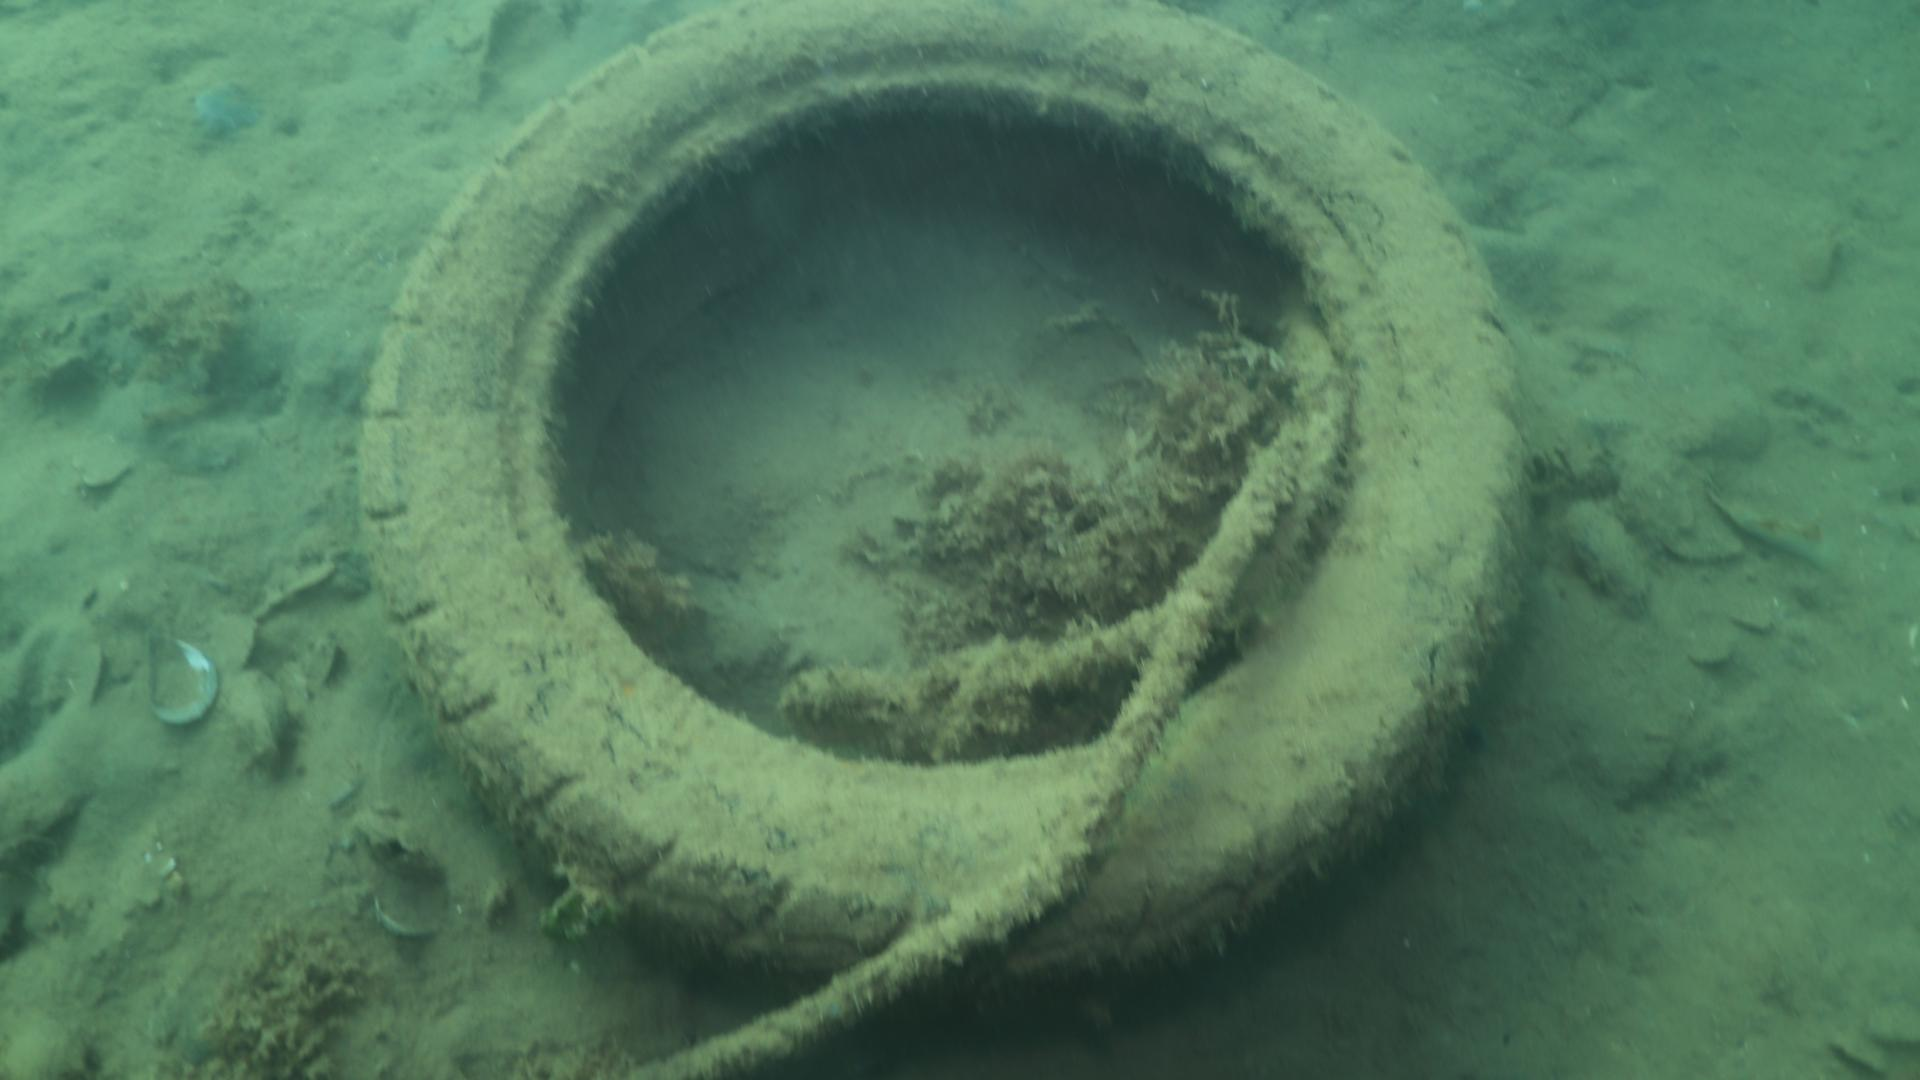bundle of ropes: (630, 297, 1349, 1080)
tire: (357, 0, 1539, 1025)
